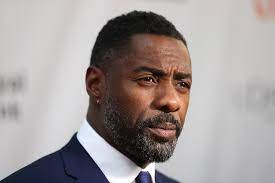person: (85, 12, 193, 163)
